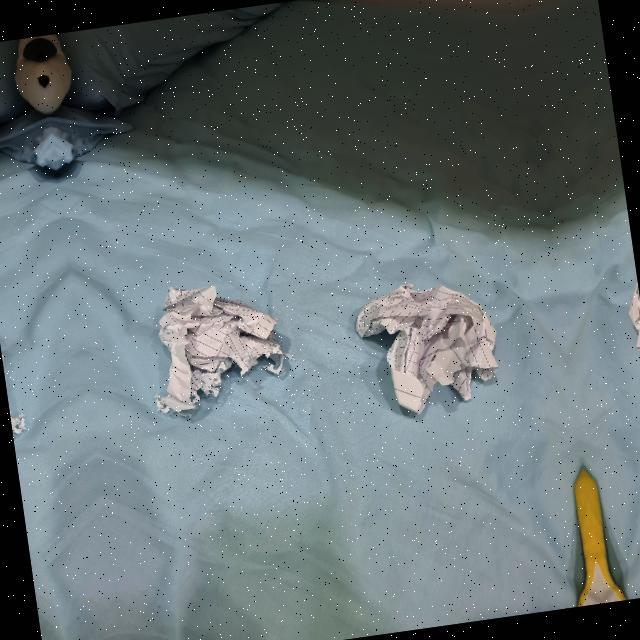paper: (351, 273, 505, 422), (140, 280, 296, 416), (0, 316, 30, 435), (624, 251, 640, 382)
